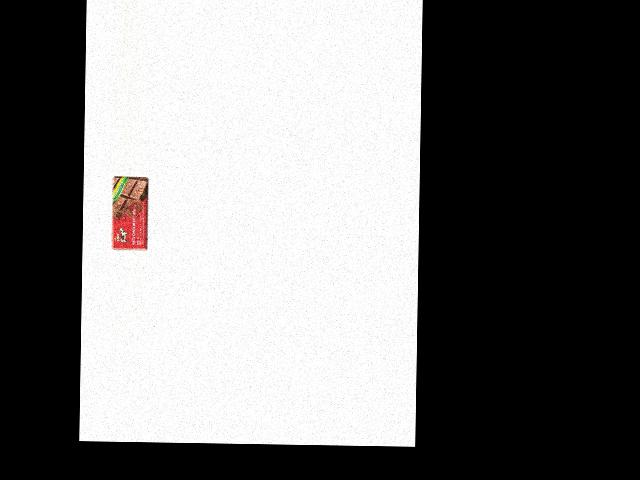chocolate: (110, 175, 150, 252)
